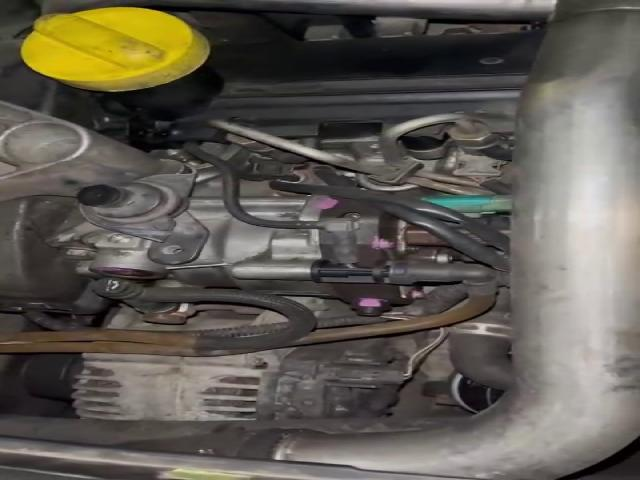alternator: (71, 349, 289, 421)
high_pressure_pump: (55, 196, 499, 315)
